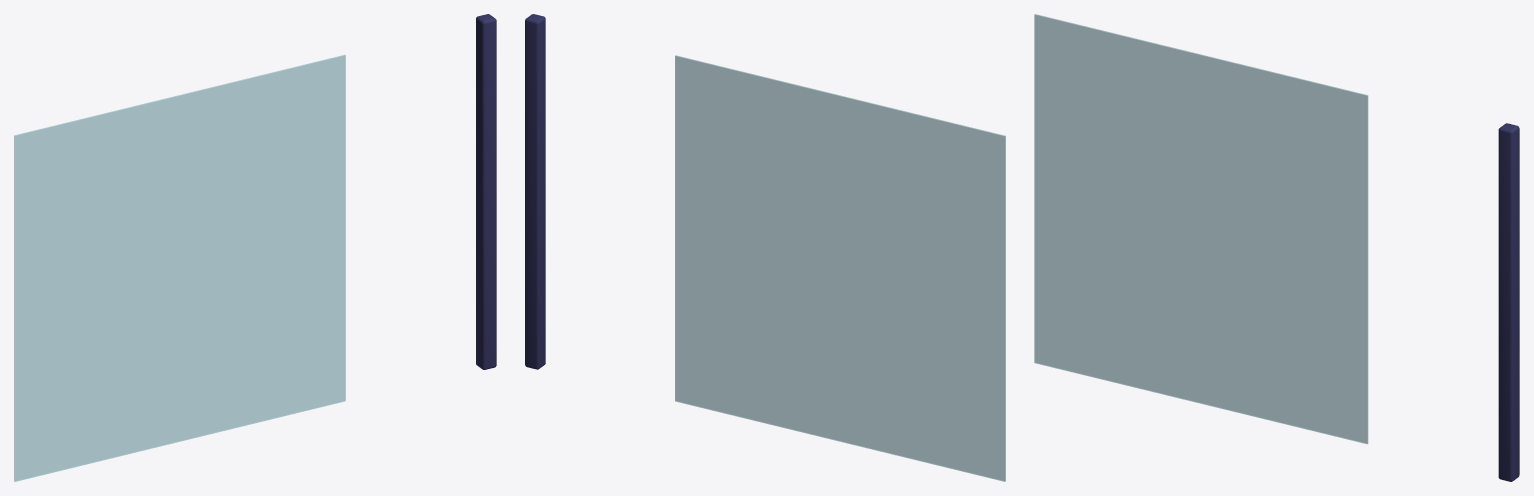
File: Curtain.fbx
3 views of the same model, side by side, from view 1: azimuth 30°, elevation 25°; view 2: azimuth 150°, elevation 25°; view 3: azimuth 330°, elevation 25° (orthographic).
Parts seen in each view (by area): view 1: CurtainMiddle, Stick; view 2: CurtainMiddle, Stick; view 3: CurtainMiddle, Stick.
Part boxes in pixels (x1=…): CurtainMiddle: x1=14, y1=54, x2=345, y2=481; Stick: x1=476, y1=14, x2=496, y2=369; CurtainMiddle: x1=675, y1=55, x2=1005, y2=481; Stick: x1=525, y1=14, x2=545, y2=369; CurtainMiddle: x1=1034, y1=14, x2=1368, y2=444; Stick: x1=1498, y1=123, x2=1519, y2=481.
Bounding box in the file's own units: 335 × 234 × 10.2.
